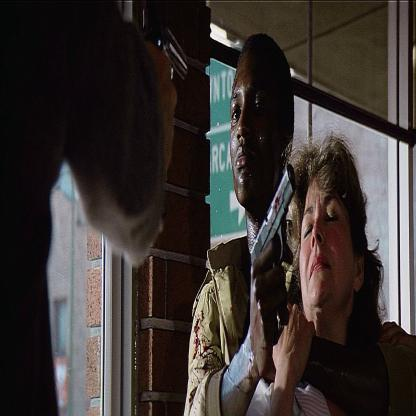gun: (151, 17, 192, 91), (289, 148, 300, 182)
